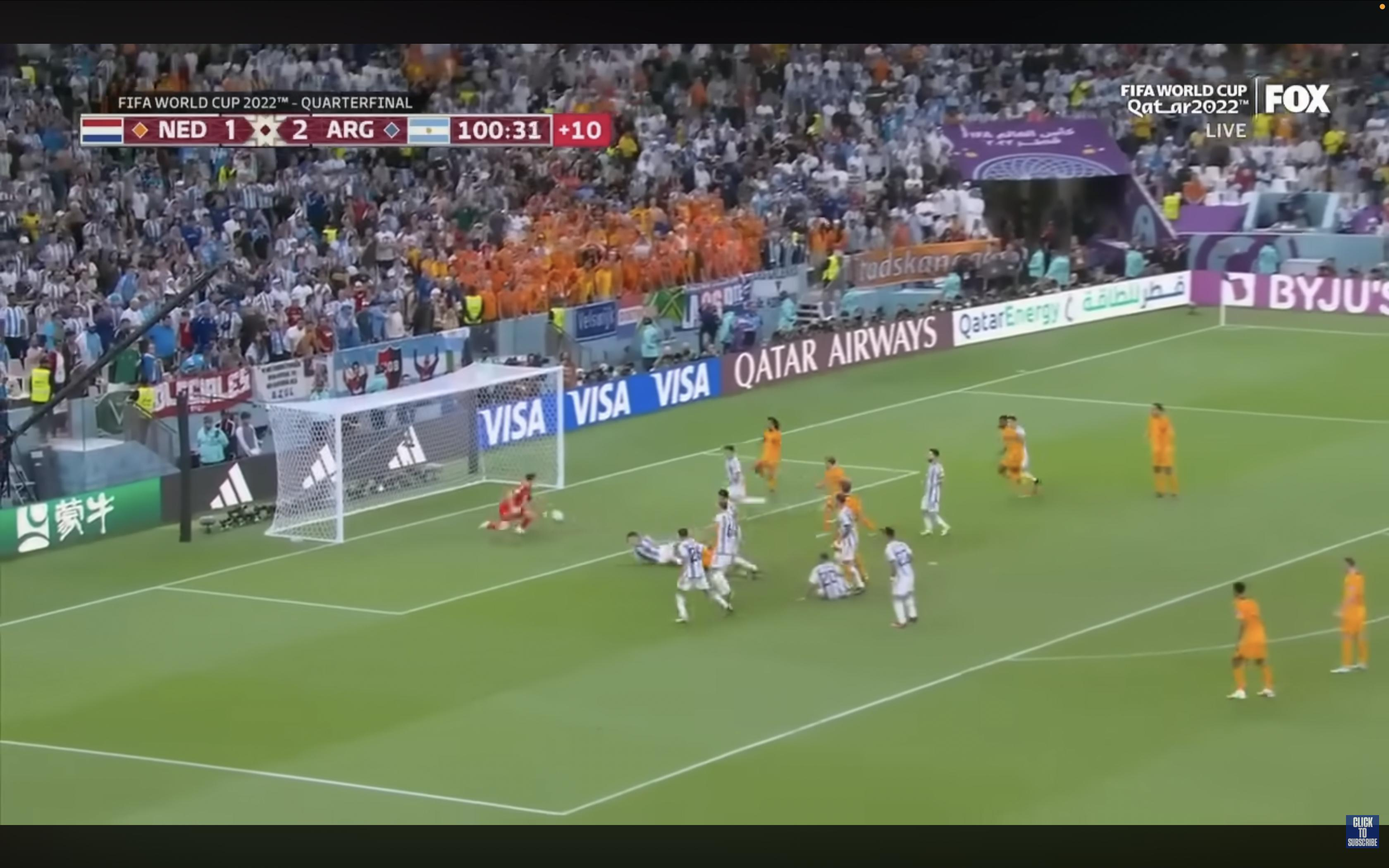ball: (547, 510, 564, 522)
goalkeeper: (480, 473, 537, 533)
player: (706, 489, 758, 597), (675, 528, 733, 623), (1229, 582, 1274, 699), (1333, 558, 1368, 674), (883, 527, 918, 628), (998, 415, 1040, 496), (834, 493, 866, 591), (1147, 403, 1178, 497), (815, 455, 849, 534), (921, 448, 950, 536), (723, 446, 766, 504), (803, 553, 854, 601), (754, 417, 782, 493), (840, 478, 876, 534), (626, 532, 678, 565)
